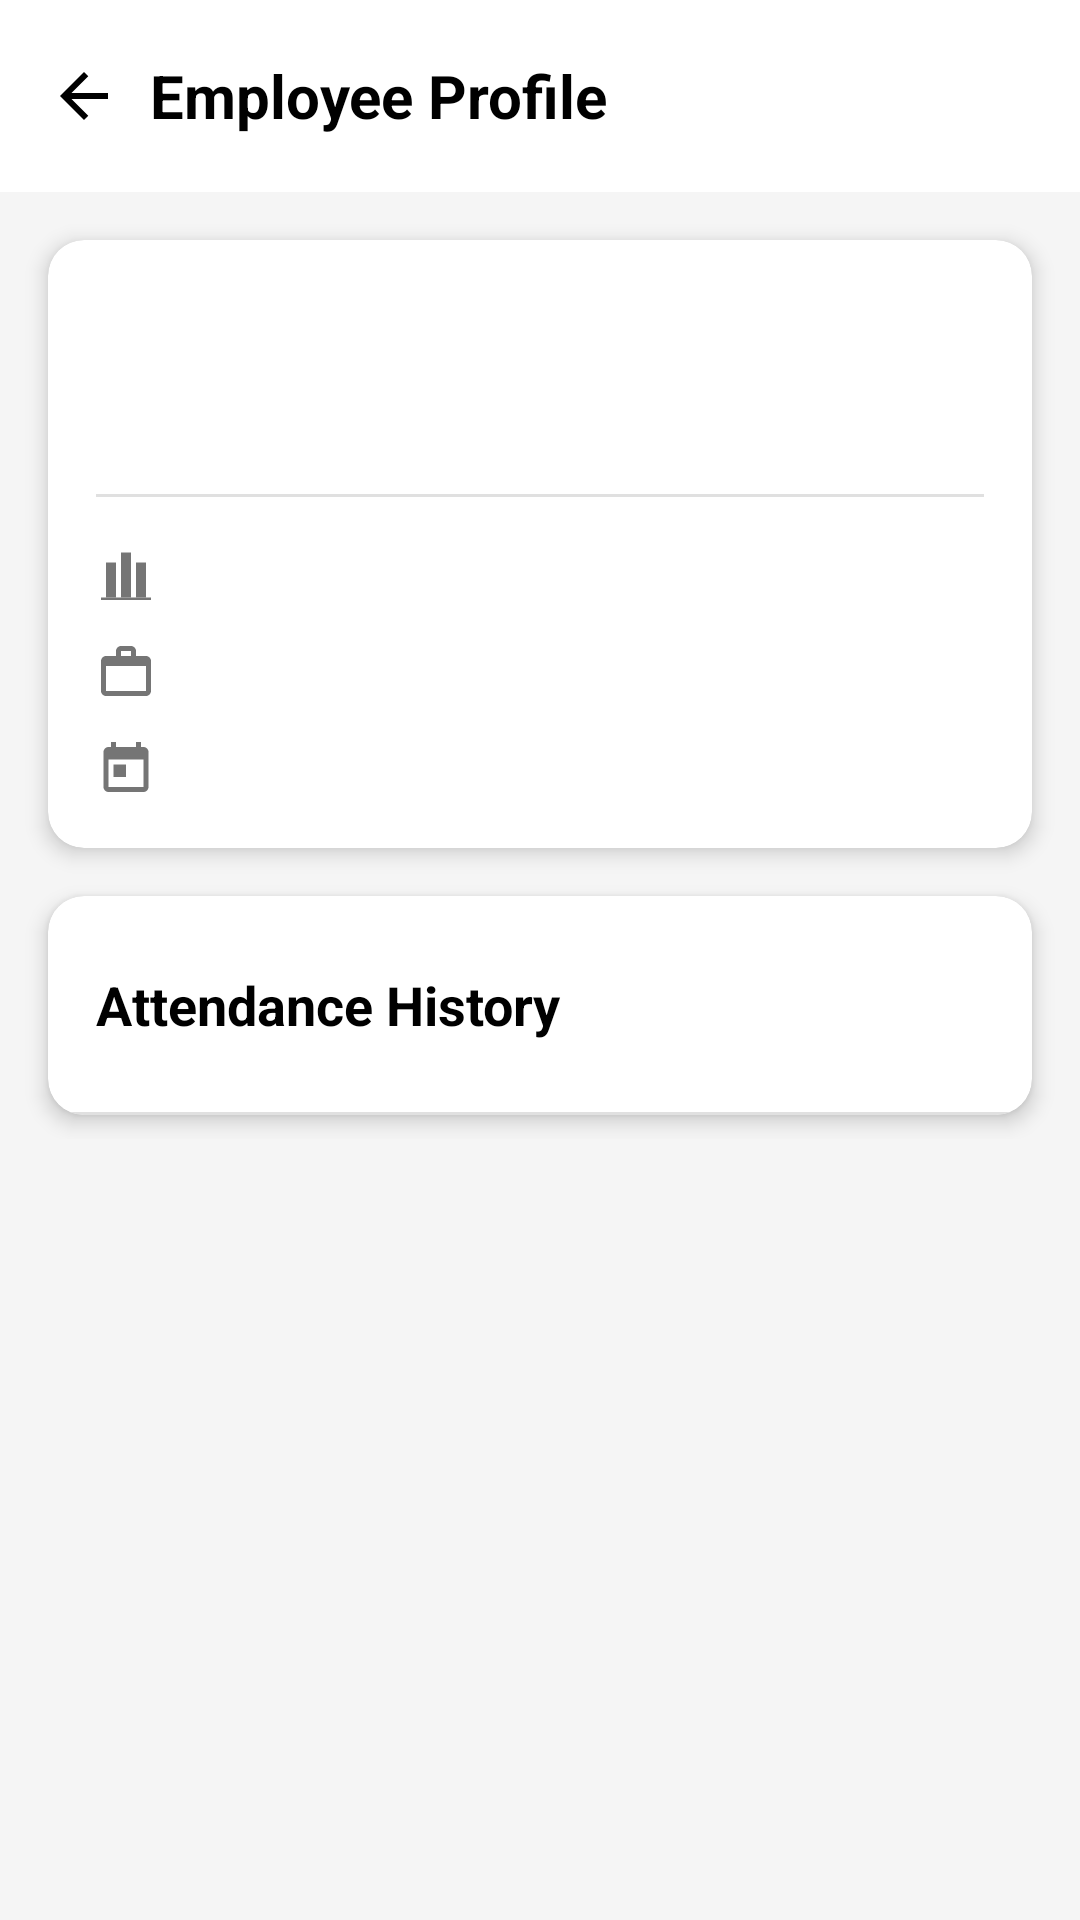

Screen size 1080 x 1920. Icon name, then its center in pixels as (x,y):
Back: (84,96)
calendar: (126,767)
